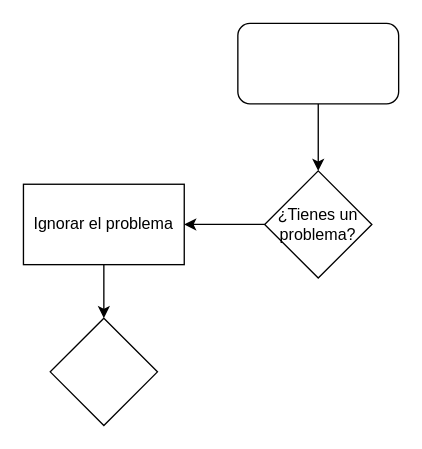
Image size: 422x449. Some labels were removed from this diagram. The centre of each missing label's shape, as x and y in pixels:
Inicio: the point at 318,63
¿Se solucionó?: the point at 103,371
